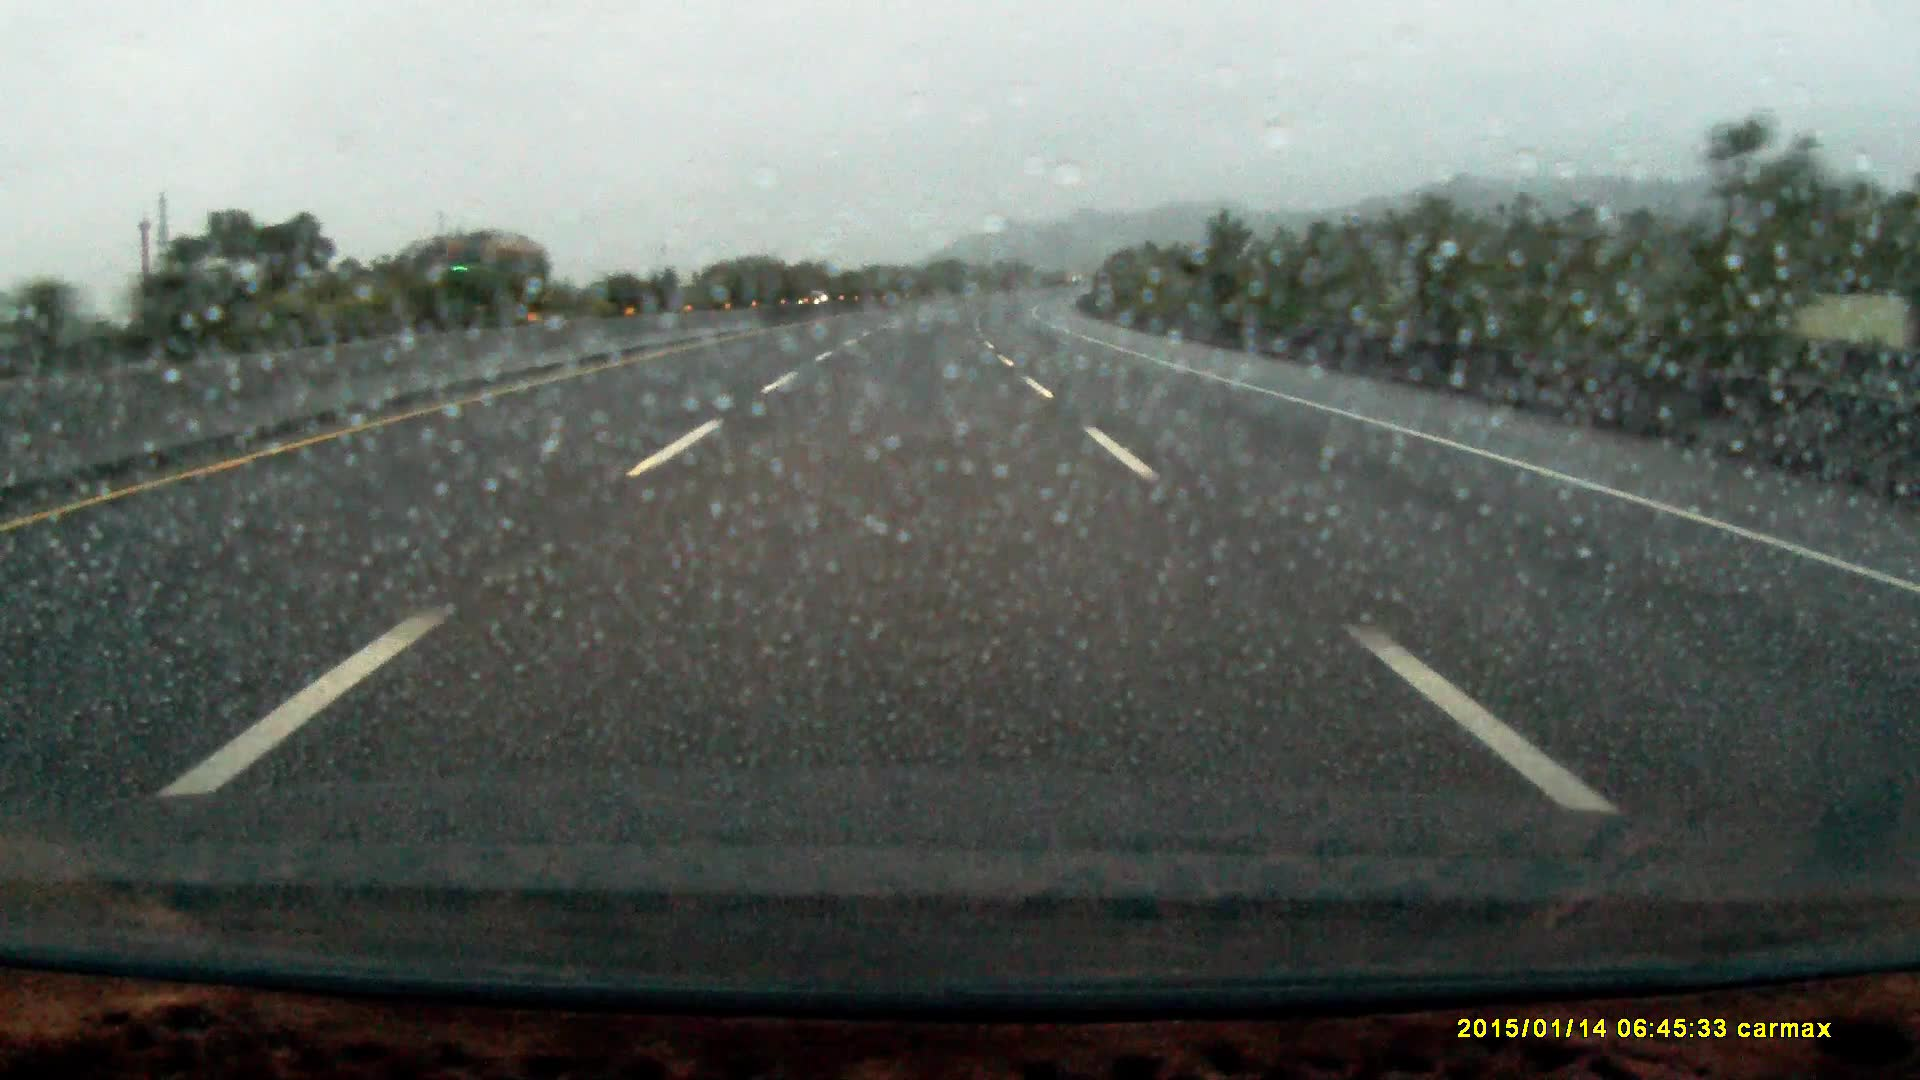vehicle: (434, 227, 554, 324)
